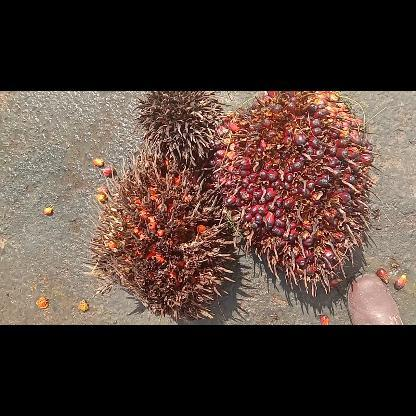Janjang kosong: (132, 91, 226, 165)
TBS masak: (210, 91, 380, 295)
Terlalu masak: (82, 147, 233, 323)
